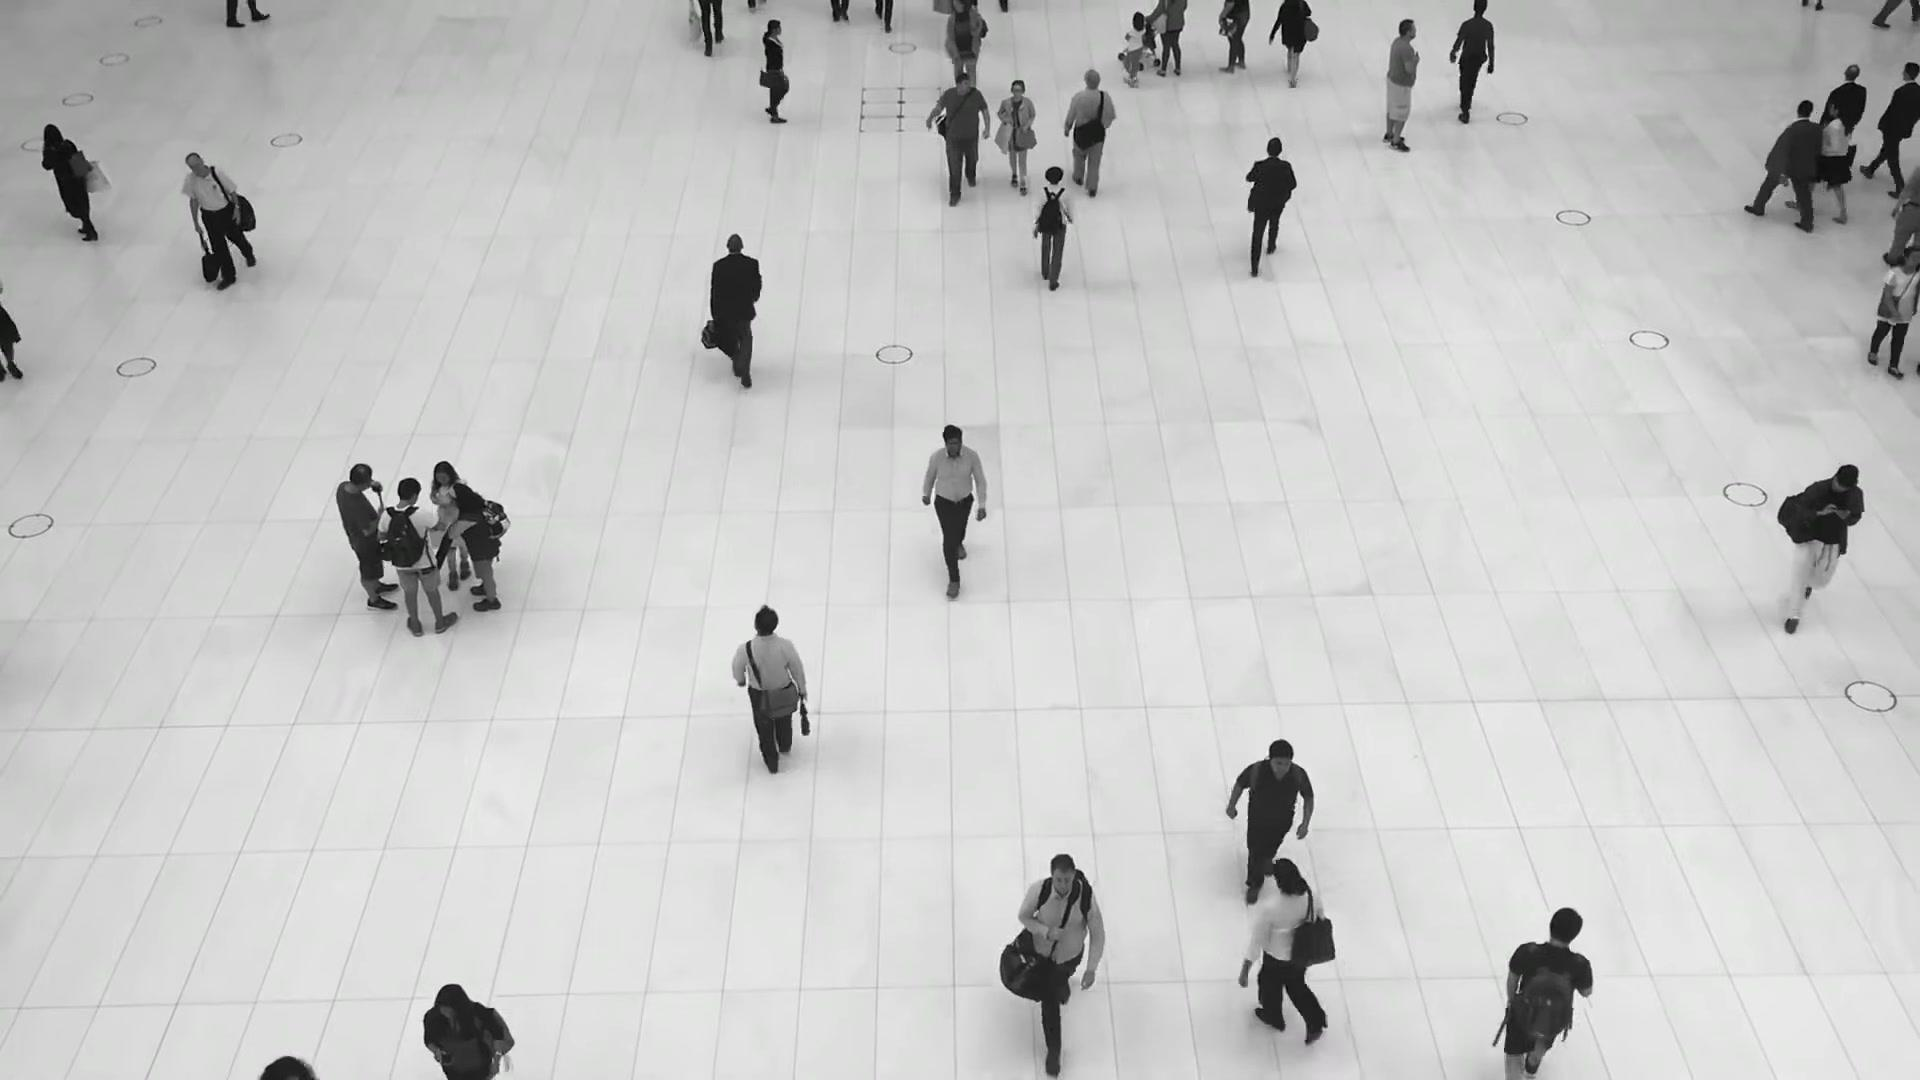person: (1243, 862, 1348, 1063), (1018, 848, 1107, 1063), (1497, 908, 1592, 1080), (1781, 464, 1865, 642), (1226, 738, 1315, 905), (377, 476, 460, 635), (733, 608, 808, 775), (920, 420, 988, 590), (1745, 97, 1826, 228), (184, 151, 255, 291), (335, 462, 400, 609), (711, 235, 765, 398), (929, 68, 992, 203), (422, 982, 504, 1080), (1242, 135, 1299, 274), (40, 119, 100, 242), (1795, 97, 1854, 221), (1866, 245, 1919, 379), (1867, 59, 1920, 193), (1063, 69, 1117, 196), (449, 481, 501, 611), (1448, 0, 1496, 120), (1029, 165, 1074, 288), (427, 459, 470, 584), (1383, 17, 1421, 151), (750, 18, 799, 123), (997, 78, 1037, 192), (1268, 0, 1312, 86), (943, 0, 987, 84), (1120, 10, 1147, 87)
